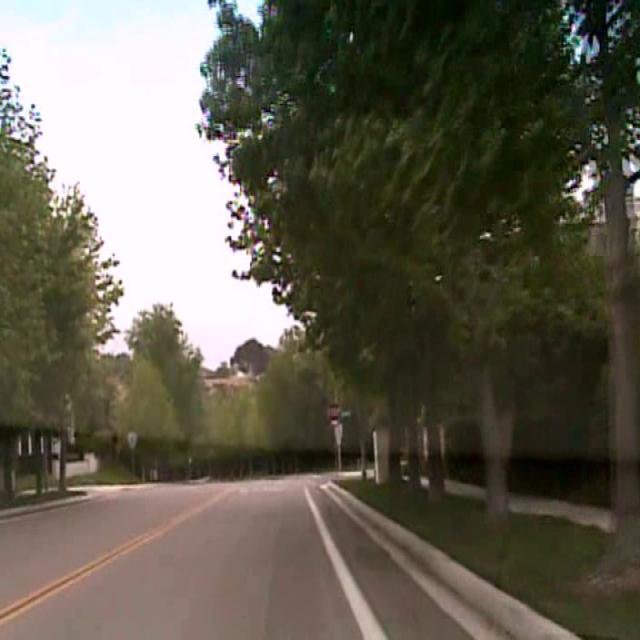stop: (325, 402, 341, 422)
